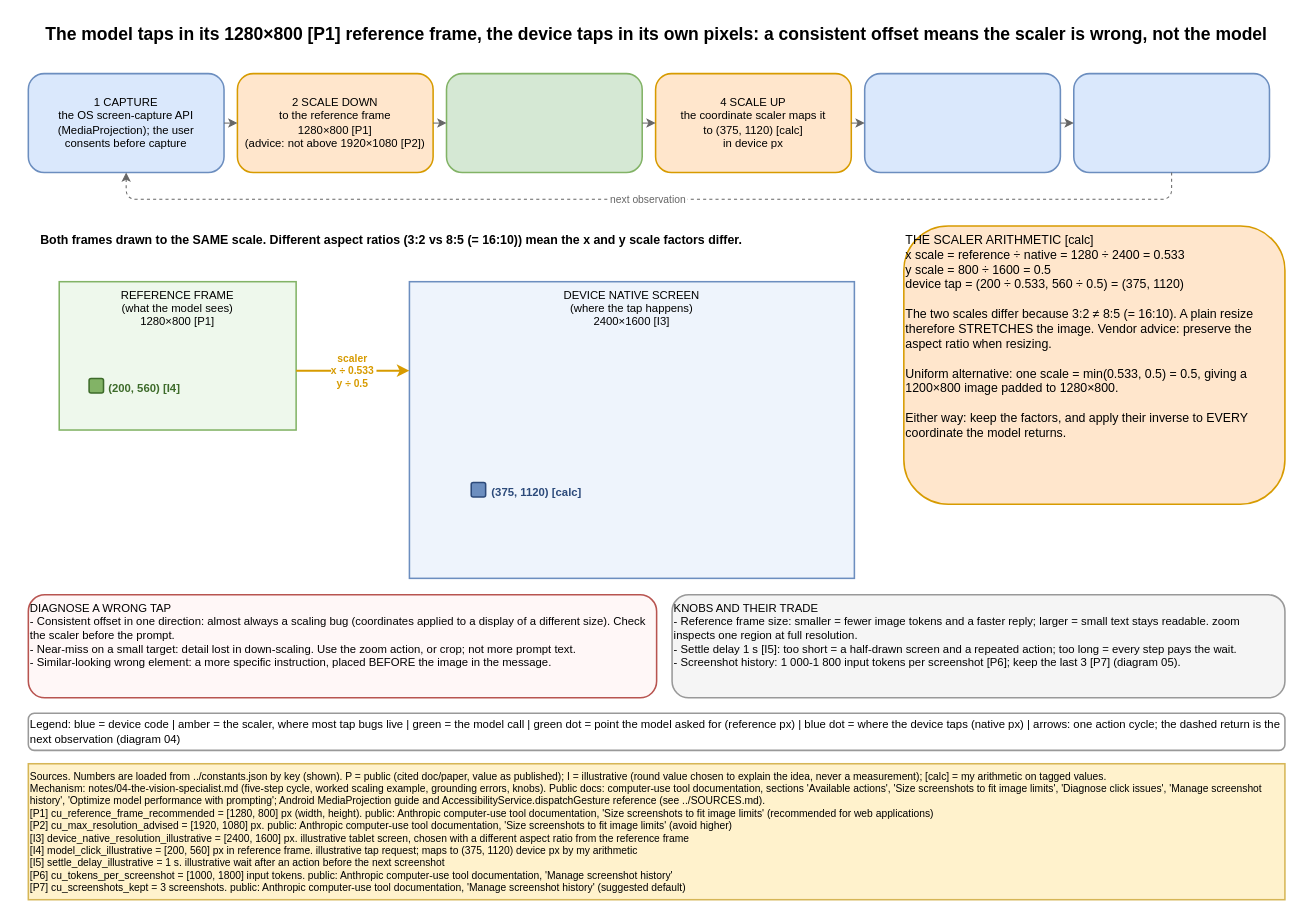
The diagram is 1312 pixels wide and 918 high, and some of its shapes have lost their labels. Each missing label, with the centre of its shape:
3 DECIDE (model call) returns left_click at (200, 560) [I4] in reference px: (x=544, y=122)
5 ACT the accessibility service injects the tap (dispatchGesture): (x=962, y=122)
6 SETTLE wait 1 s [I5] so the UI stops moving, then capture again: (x=1171, y=122)
